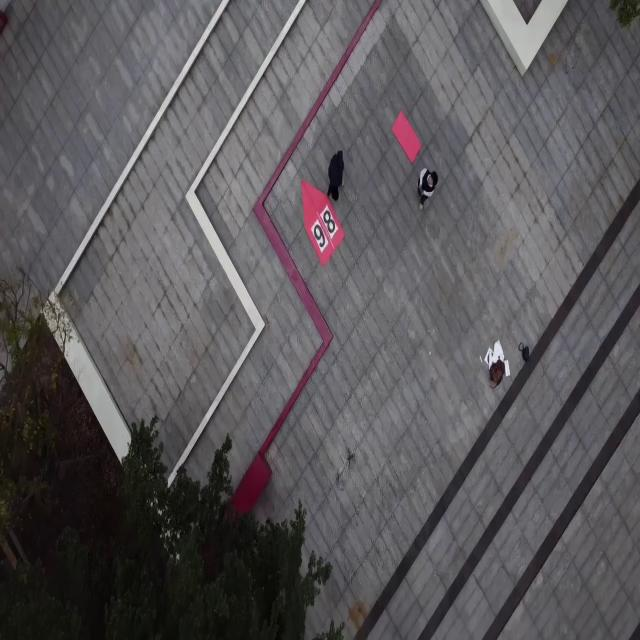-sign-: (301, 178, 345, 268), (391, 109, 422, 164)
